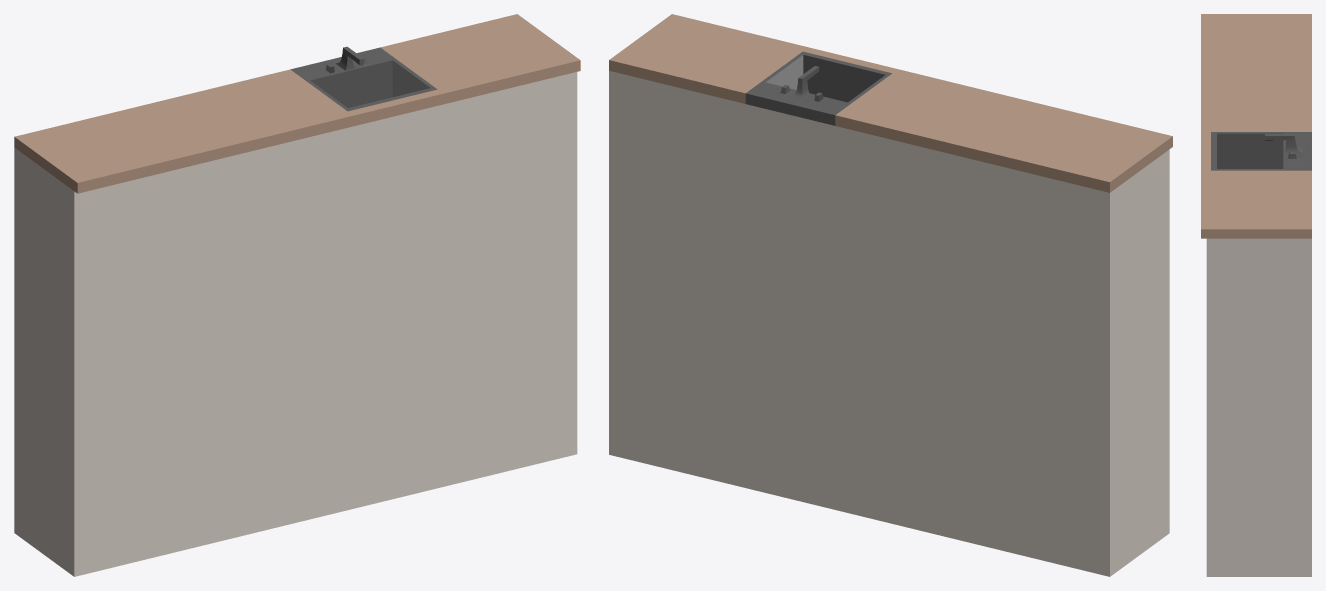
The model's file is kitchen_counter_sink.fbx.
The picture shows the model from 3 angles, left to right: view 1: azimuth 30°, elevation 25°; view 2: azimuth 150°, elevation 25°; view 3: azimuth 270°, elevation 25°; orthographic projection. The views are drawn at different scales.
Visible parts, largest first — view 1: pCube1; view 2: pCube1; view 3: pCube1.
Boxes of the visible parts, <box> form: pCube1: <box>14,14,580,576</box>; pCube1: <box>609,14,1172,576</box>; pCube1: <box>1201,14,1311,576</box>.
Size of the model in its own units: 26.76 by 21.1 by 5.82.
